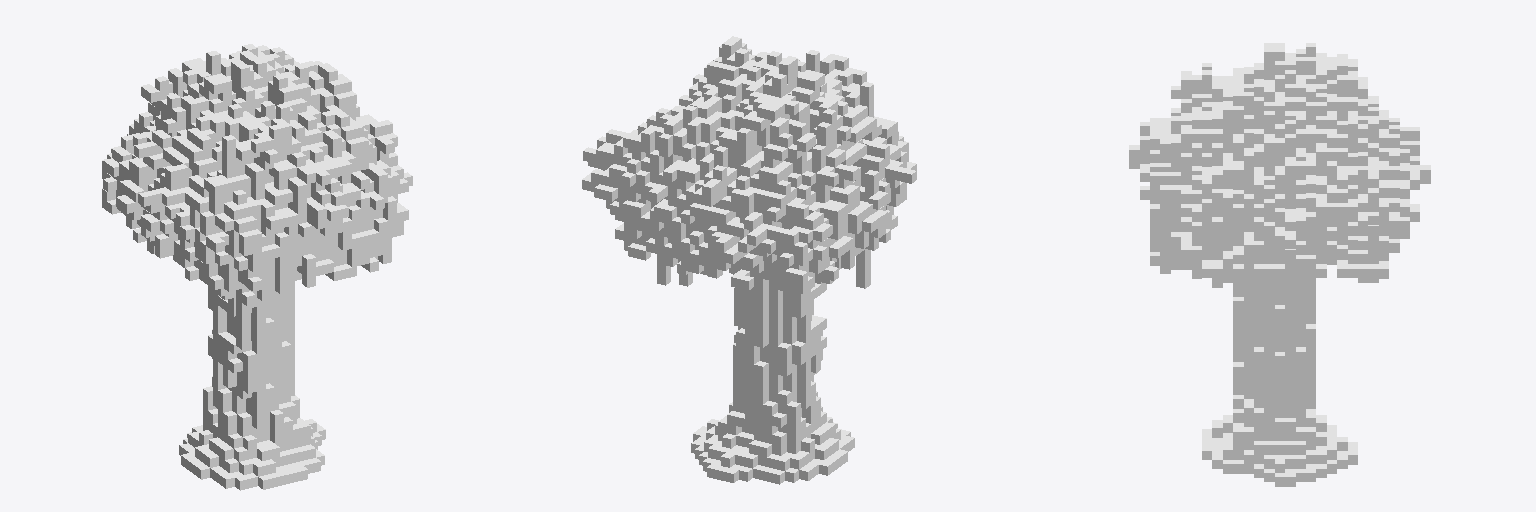
Rendered from OakTree1.obj.
3 views of the same model, side by side, from view 1: azimuth 30°, elevation 25°; view 2: azimuth 150°, elevation 25°; view 3: azimuth 270°, elevation 25° (orthographic).
Visible parts, largest first — view 1: object 1; view 2: object 1; view 3: object 1.
Part boxes in pixels (bbox=[...]): object 1: bbox=[102, 44, 412, 490]; object 1: bbox=[582, 36, 916, 484]; object 1: bbox=[1129, 43, 1430, 486].
Size of the model in its own units: 2.9 by 4.2 by 2.9.